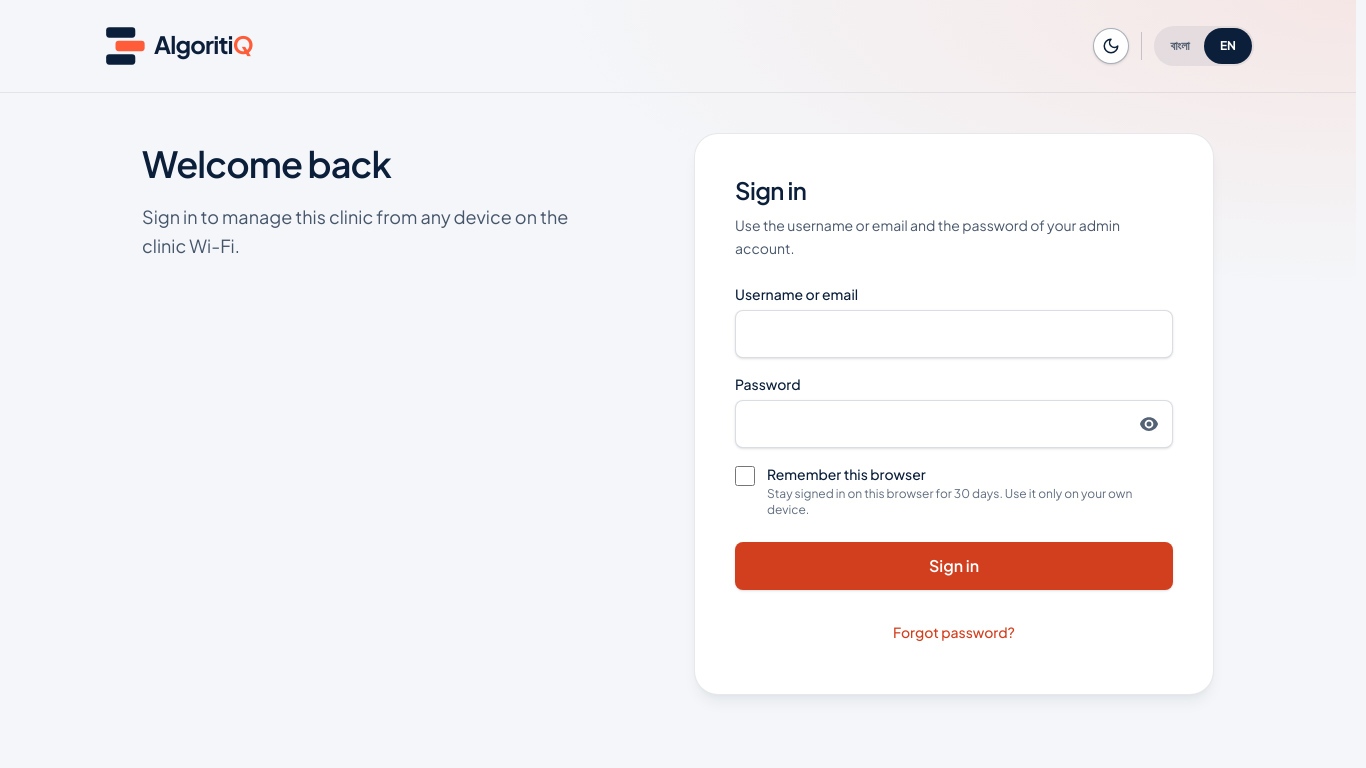
Test: sign-in › should say so when the username or password is wrong
Type "Owner" into the field labelled "Username or email" at {"x": 954, "y": 334}, box [735,310,1173,358]
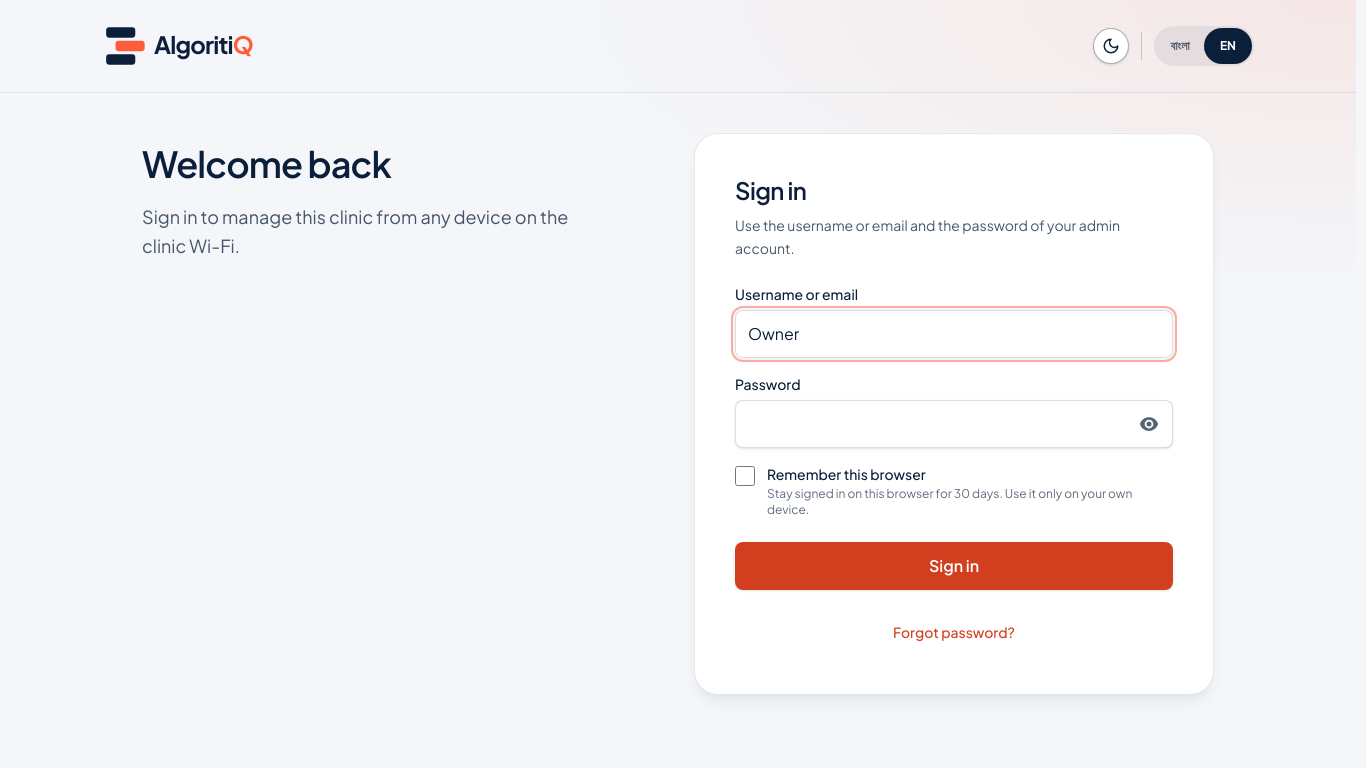
Type "wrong-password-1" into the password field labelled "Password" at {"x": 954, "y": 424}, box [735,400,1173,448]
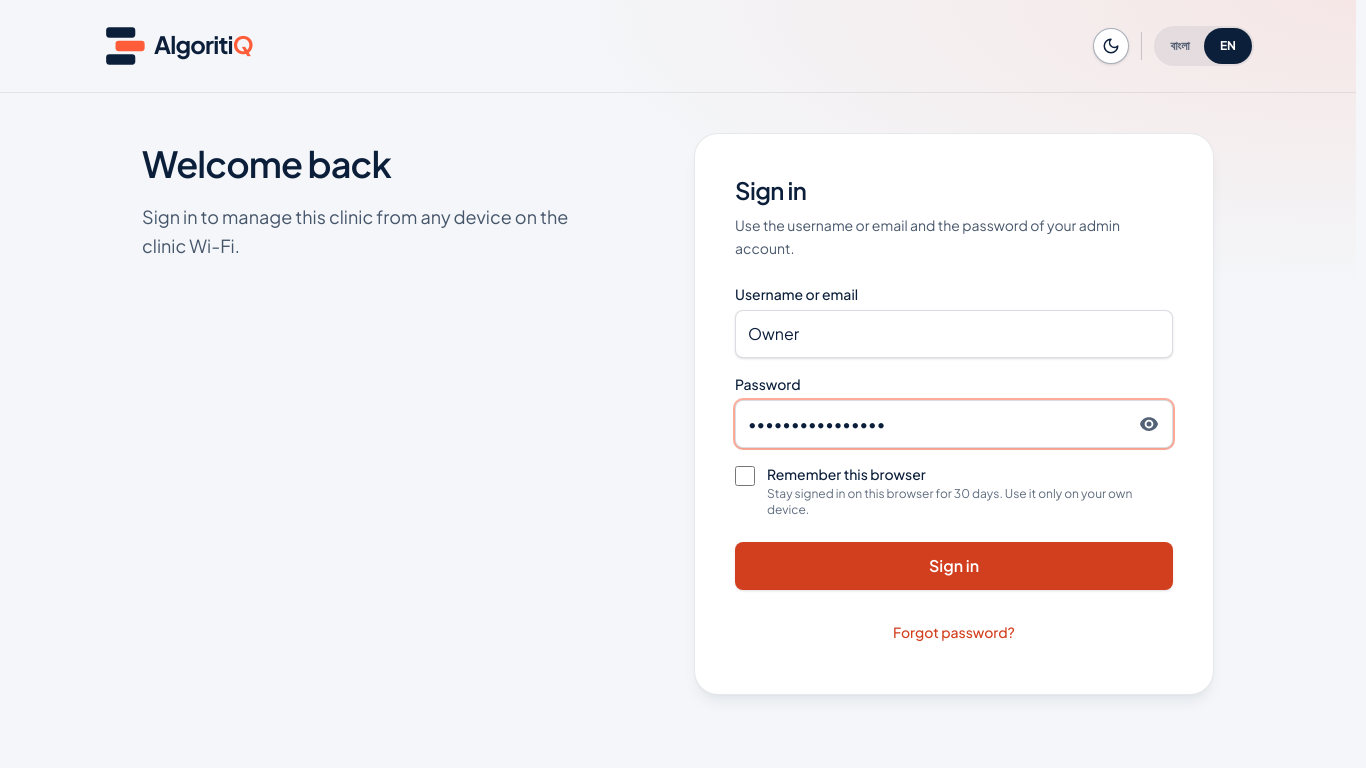
Click the button "Sign in" at {"x": 954, "y": 566}, box [735,542,1173,590]
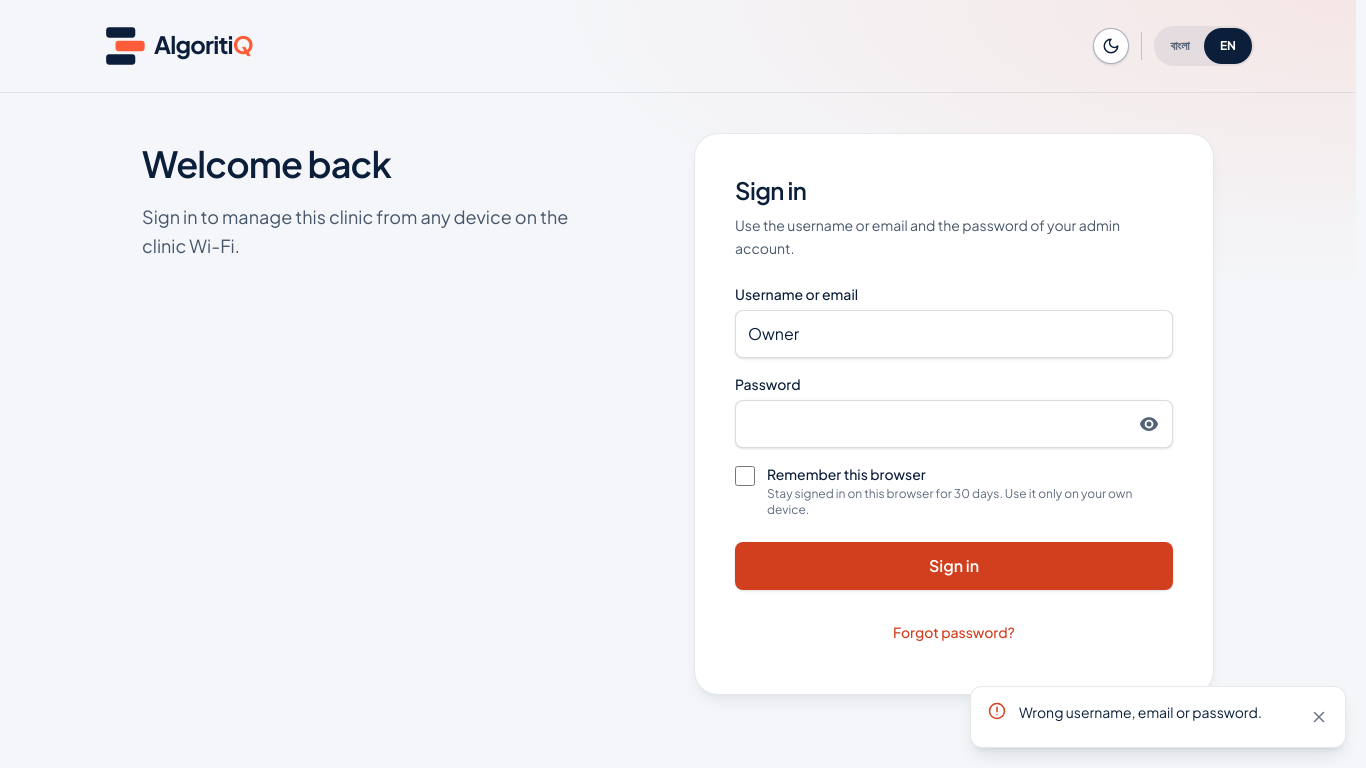
Now the message reads "Wrong username, email or password.", box [1019,703,1262,721]
Now the password field labelled "Password" is empty, box [735,400,1173,448]
